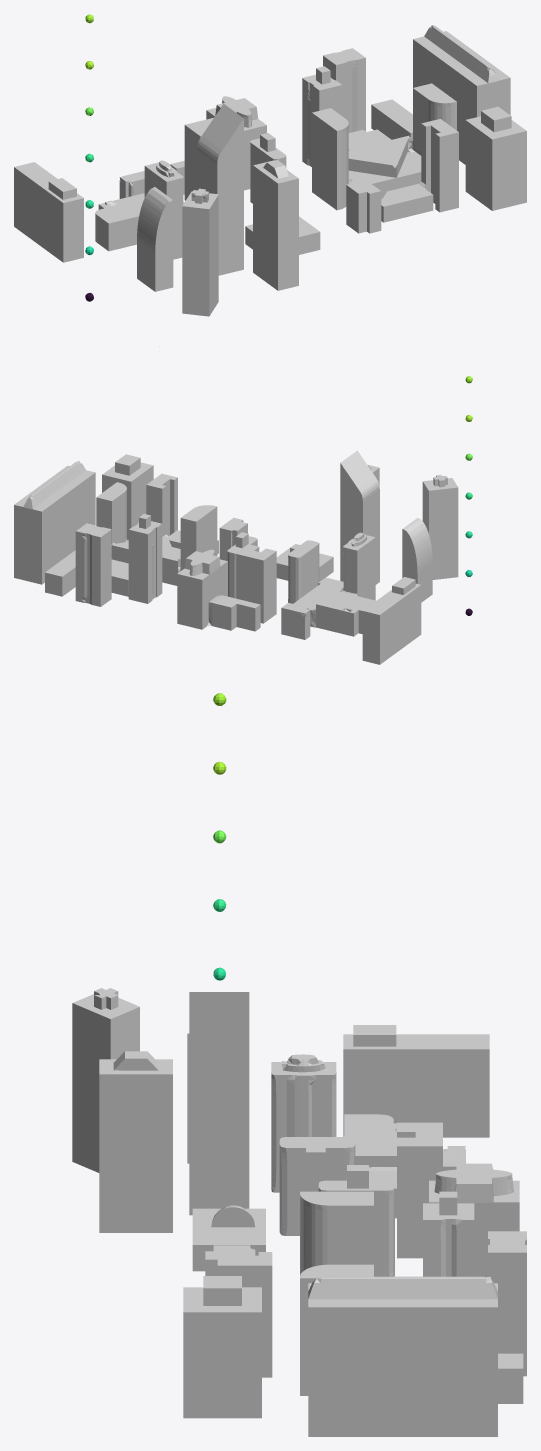
The model's file is wabAnim_Experimental_v2.1.glb.
3 views of the same model, one above another, from view 1: azimuth 30°, elevation 25°; view 2: azimuth 150°, elevation 25°; view 3: azimuth 270°, elevation 25° (orthographic). The views are drawn at different scales.
Parts seen in each view (by area): view 1: Renderer Node; view 2: Renderer Node; view 3: Renderer Node.
Boxes of the visible parts, bbox=[...] form: Renderer Node: bbox=[14, 14, 526, 316]; Renderer Node: bbox=[14, 376, 472, 664]; Renderer Node: bbox=[72, 693, 526, 1436].
Bounding box in the file's own units: 0.5517 × 0.3321 × 0.3645.
3 materials, 2 textured.
